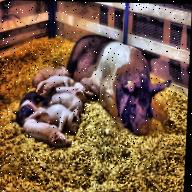boar: (10, 33, 177, 154)
